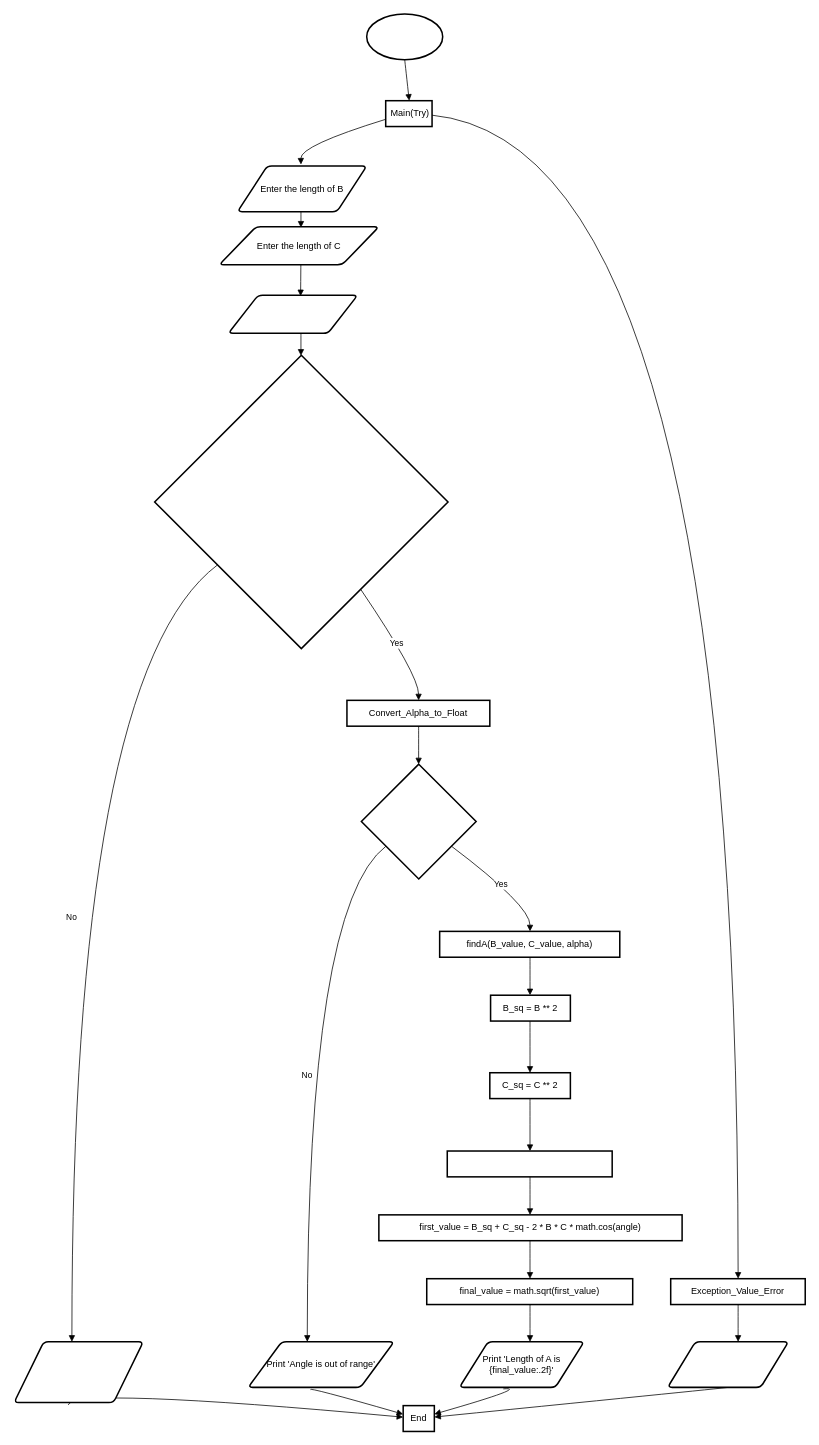
This 819x1445 diagram has some shape labels left out. The centre of each missing label's shape, as x and y in pixels:
"alpha >= 90" goes at point (418, 821).
"angle = math.radians(alpha)" goes at point (529, 1163).
"B_value > 0 and C_value > 0 and alpha.isdigit()" goes at point (301, 501).
"Enter the angle" goes at point (292, 314).
"Print 'All inputs must be positive integers'" goes at point (78, 1372).
"Print 'Only numbers'" goes at point (728, 1364).
"Start" goes at point (404, 36).
